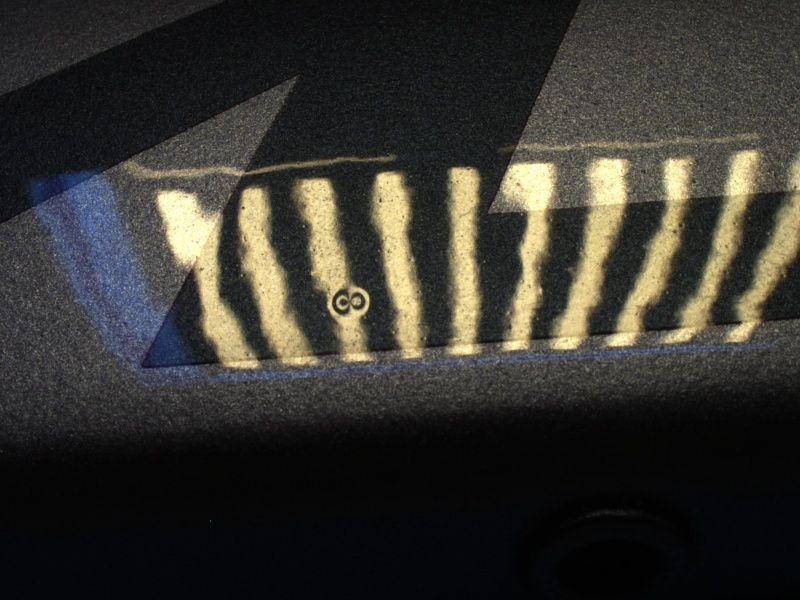bad: (324, 280, 375, 326)
